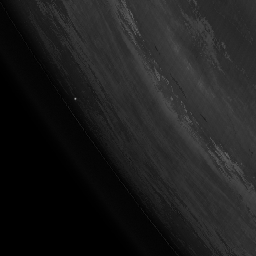Target: (73, 97, 77, 101)
